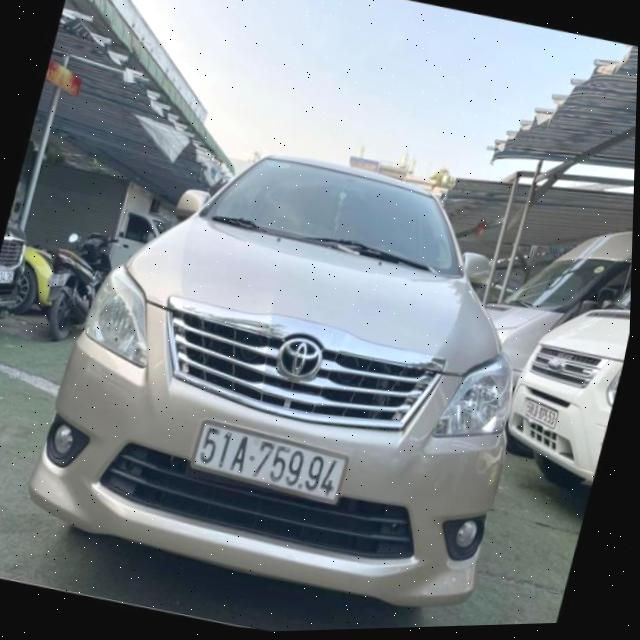car: (35, 113, 559, 638), (483, 261, 632, 513), (0, 226, 109, 349)
motorcycle: (0, 226, 109, 352)
plate: (182, 412, 358, 513), (514, 391, 569, 434), (0, 261, 17, 288)
